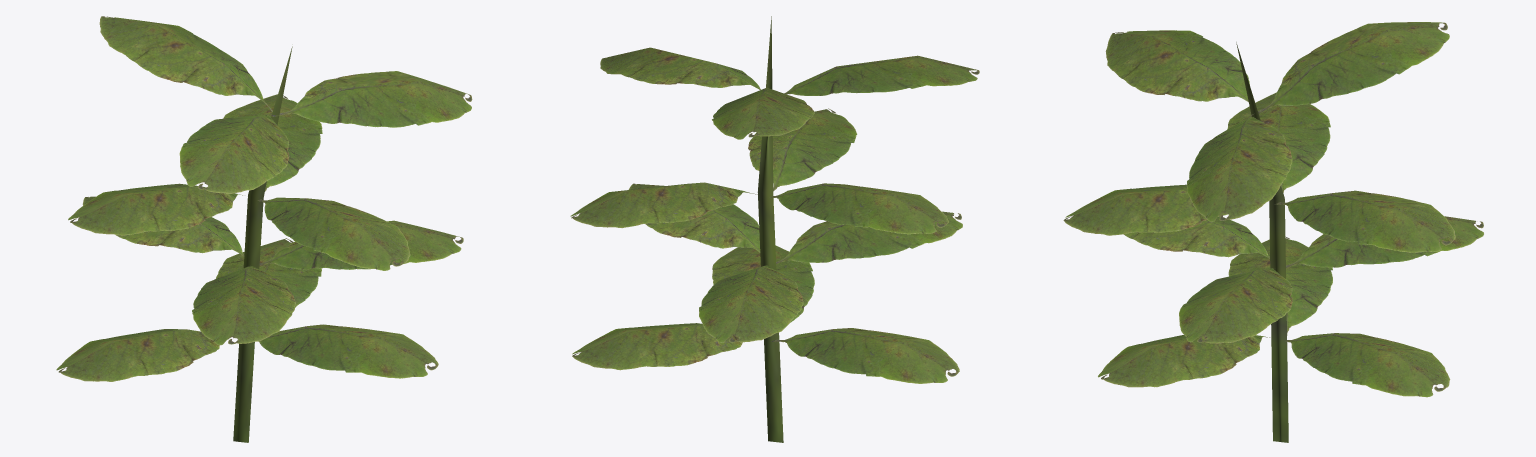
The model's file is plant_004.dae.
3 views of the same model, side by side, from view 1: azimuth 30°, elevation 25°; view 2: azimuth 150°, elevation 25°; view 3: azimuth 270°, elevation 25° (orthographic). The views are drawn at different scales.
Visible parts, largest first — view 1: Plant_004; view 2: Plant_004; view 3: Plant_004.
Part boxes in pixels (box(x1,y1,x2,y2)): Plant_004: box(56, 16, 472, 442); Plant_004: box(570, 16, 979, 442); Plant_004: box(1063, 22, 1483, 442).
Size of the model in its own units: 1.97 by 1.83 by 1.95.
